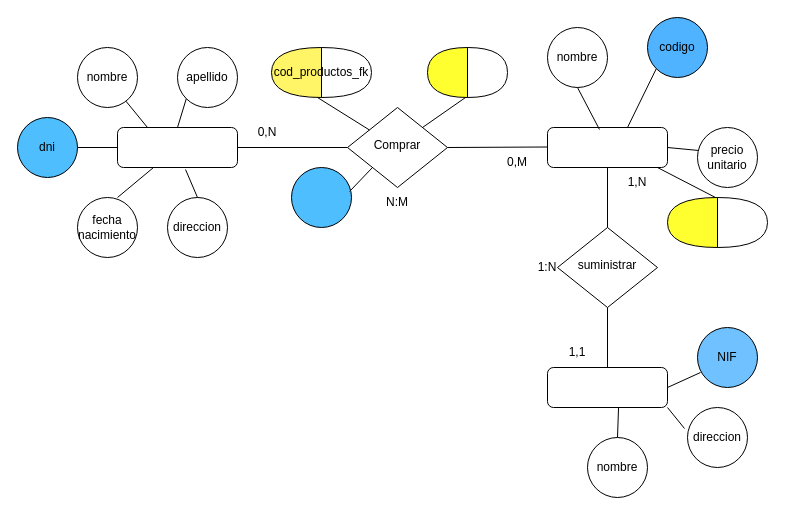
Image size: 785x515. Some labels were removed from this diagram. Each missing label, with the centre of its shape:
Clientes: pixel 177 147
dni_clientes_fk: pixel 447 72
id: pixel 321 197
nif_proveedor_fk: pixel 692 222
Productos: pixel 607 147
Proveedor: pixel 607 387
